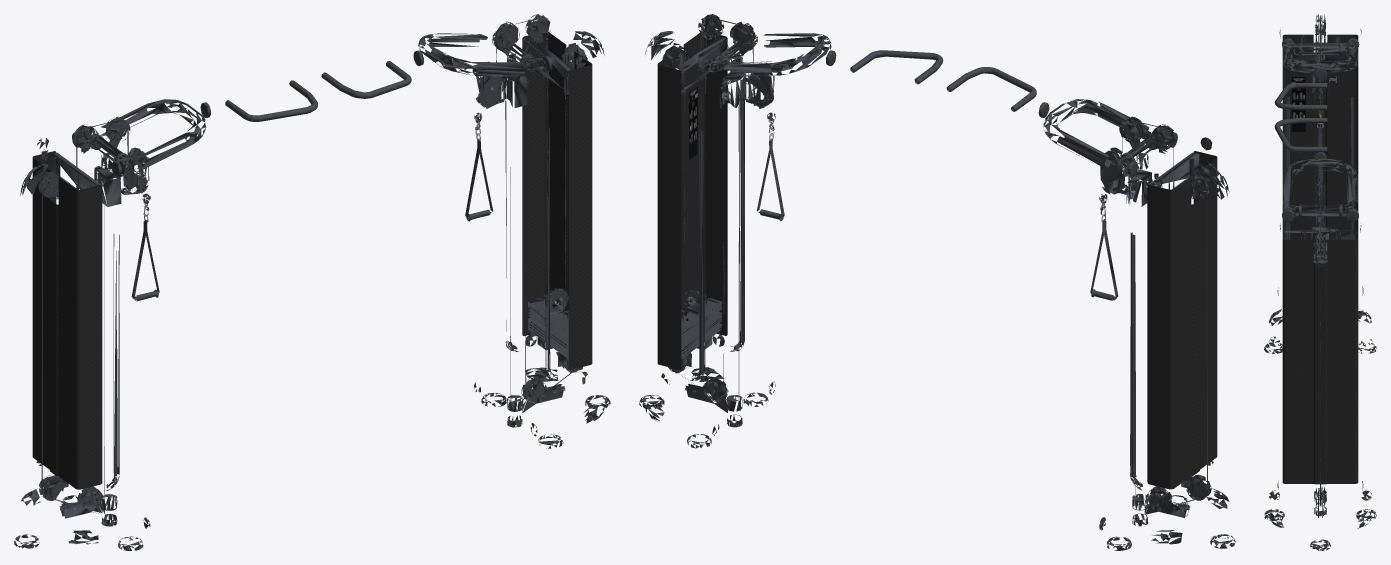
Rendered from cablecrossover-terra.glb.
3 renders of one model, left to right at view 1: azimuth 30°, elevation 25°; view 2: azimuth 150°, elevation 25°; view 3: azimuth 270°, elevation 25°, orthographic. The views are drawn at different scales.
Parts seen in each view (by area): view 1: Mesh_0, Mesh_1, Mesh_4, Mesh_7, Mesh_6, Mesh_3; view 2: Mesh_0, Mesh_4, Mesh_1, Mesh_7, Mesh_6; view 3: Mesh_0, Mesh_4, Mesh_1, Mesh_7, Mesh_5.
Part boxes in pixels (box(x1,y1,x2,y2)): Mesh_0: box(32, 32, 592, 489); Mesh_1: box(20, 15, 604, 544); Mesh_4: box(14, 14, 610, 550); Mesh_7: box(41, 16, 576, 505); Mesh_6: box(54, 76, 568, 358); Mesh_3: box(59, 122, 564, 511); Mesh_0: box(657, 31, 1217, 489); Mesh_4: box(639, 14, 1235, 550); Mesh_1: box(645, 14, 1229, 544); Mesh_7: box(674, 16, 1208, 505); Mesh_6: box(681, 75, 1195, 358); Mesh_0: box(1282, 34, 1358, 484); Mesh_4: box(1264, 14, 1376, 550); Mesh_1: box(1269, 14, 1371, 528); Mesh_7: box(1317, 15, 1323, 506); Mesh_5: box(1291, 77, 1305, 131).
Bounding box in the file's own units: 3.7 × 2.4 × 0.7482.
Materials: 5 (2 with a texture image).
